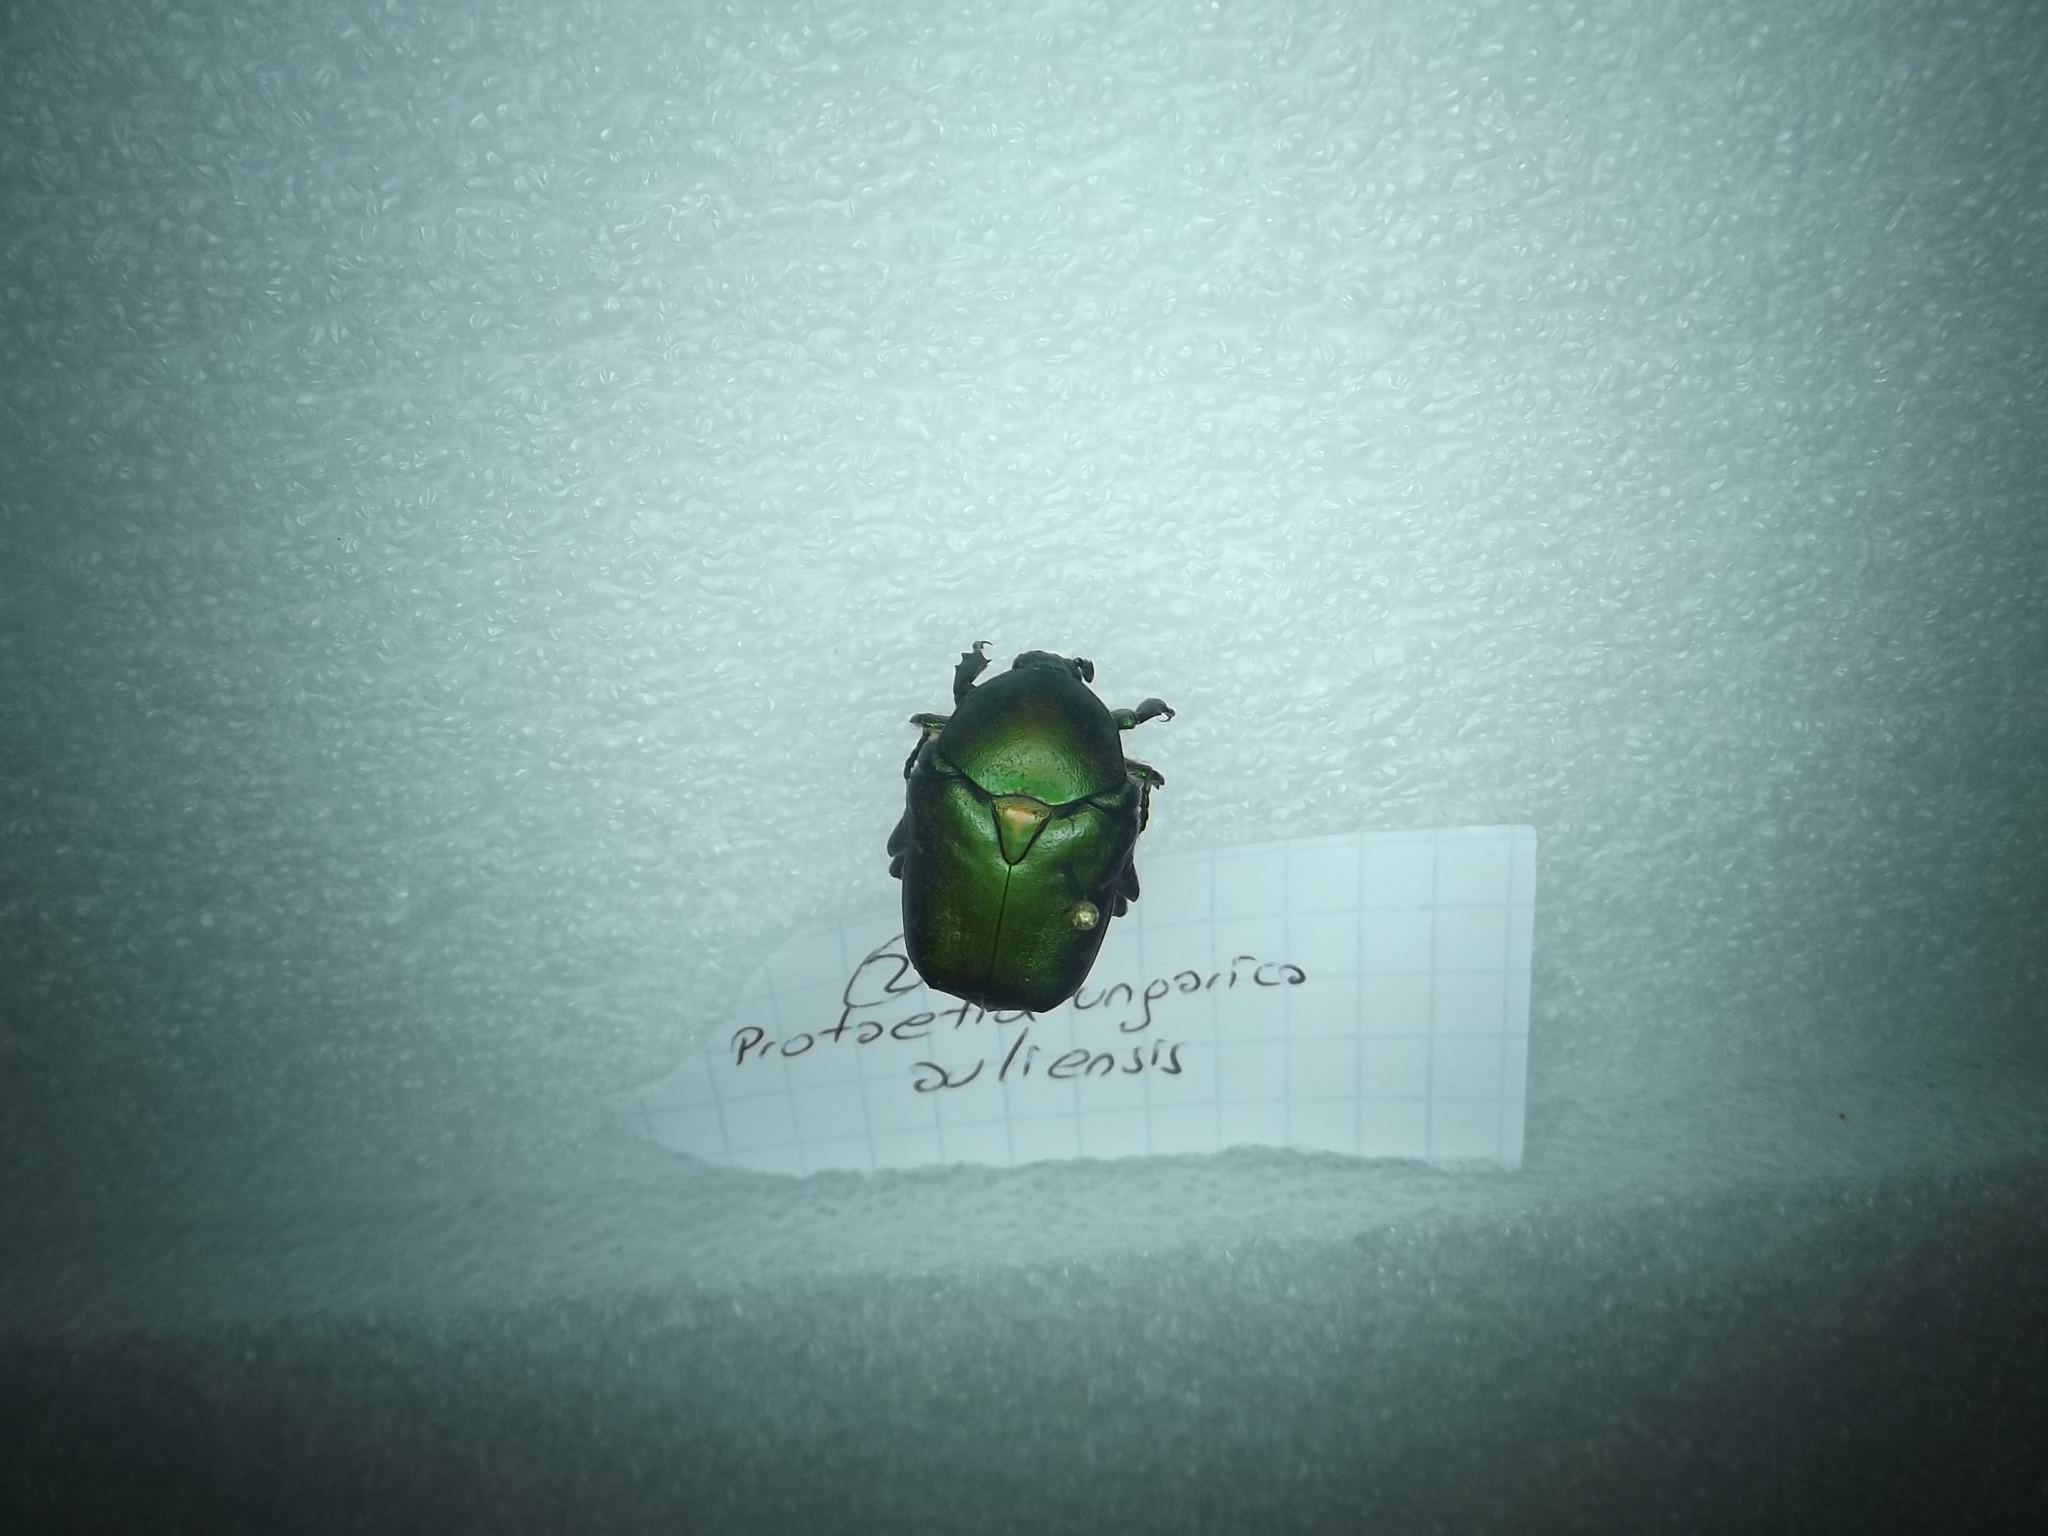Protaetia_ungarica: (876, 618, 1188, 1026)
